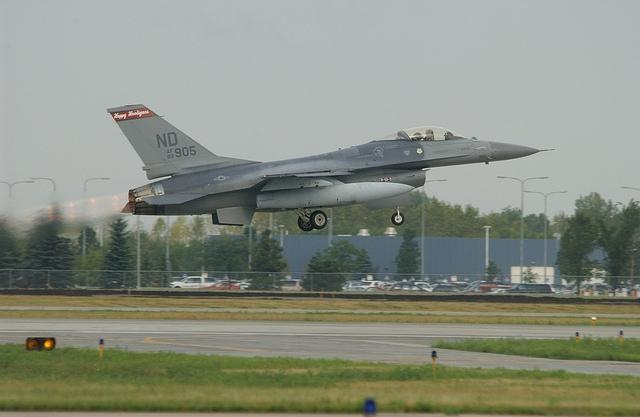car: (458, 285, 512, 293), (272, 279, 306, 291), (388, 284, 431, 293), (199, 281, 241, 290), (432, 284, 462, 294), (360, 281, 385, 292), (414, 281, 434, 292), (348, 282, 362, 292), (235, 284, 251, 290), (363, 288, 384, 292), (598, 288, 605, 295)
truck: (170, 276, 222, 288), (498, 283, 552, 293)
